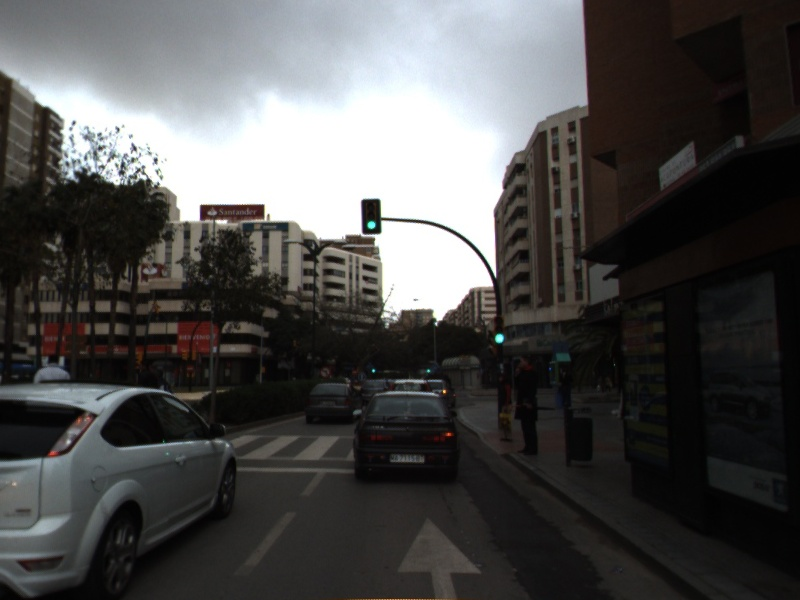STRAIGHT: (393, 512, 485, 600)
